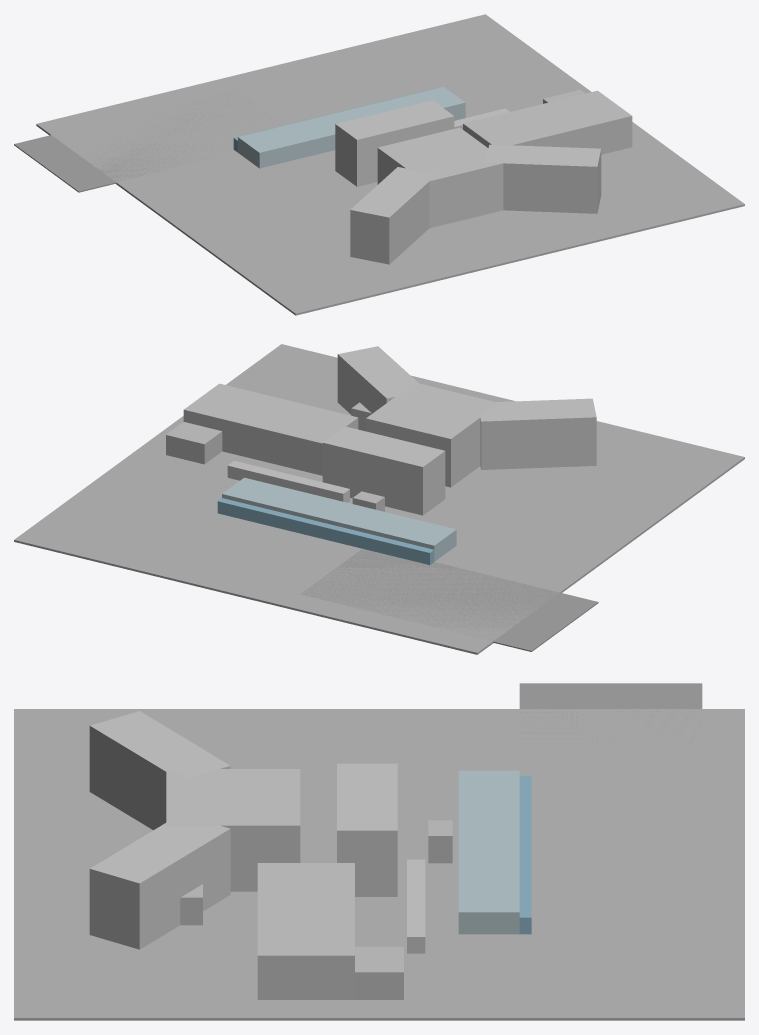
File: college_revesz_long_simplified.glb
The picture shows the model from 3 angles, top to bottom: view 1: azimuth 30°, elevation 25°; view 2: azimuth 150°, elevation 25°; view 3: azimuth 270°, elevation 25°; orthographic projection. The views are drawn at different scales.
Visible parts, largest first — view 1: ground, main_core, east_hall, wing_ne, wing_nw, parking, entrance_block, wing_s; view 2: ground, parking, east_hall, wing_s, wing_nw, main_core, entrance_block, wing_ne, bus_shelters, covered_walkway, annex1; view 3: ground, east_hall, wing_ne, main_core, entrance_block, wing_nw, wing_s, parking, annex1, bus_shelters, covered_walkway, footbridge (+1 smaller).
Boxes of the visible parts, left/top/right/bottom form: ground: left=36, top=14, right=744, bottom=315; main_core: left=377, top=127, right=503, bottom=228; east_hall: left=463, top=90, right=632, bottom=154; wing_ne: left=485, top=144, right=601, bottom=213; wing_nw: left=350, top=167, right=436, bottom=264; parking: left=14, top=89, right=282, bottom=192; entrance_block: left=238, top=87, right=465, bottom=168; wing_s: left=335, top=100, right=454, bottom=186; ground: left=14, top=344, right=744, bottom=654; parking: left=300, top=548, right=598, bottom=651; east_hall: left=183, top=383, right=358, bottom=475; wing_s: left=322, top=426, right=445, bottom=515; wing_nw: left=480, top=398, right=596, bottom=469; main_core: left=366, top=382, right=499, bottom=487; entrance_block: left=222, top=477, right=456, bottom=561; wing_ne: left=337, top=346, right=425, bottom=414; bus_shelters: left=217, top=498, right=434, bottom=564; covered_walkway: left=227, top=460, right=349, bottom=502; annex1: left=166, top=422, right=222, bottom=464; ground: left=14, top=709, right=744, bottom=1020; east_hall: left=257, top=863, right=354, bottom=999; wing_ne: left=89, top=823, right=230, bottom=949; main_core: left=166, top=769, right=300, bottom=891; entrance_block: left=458, top=770, right=519, bottom=934; wing_nw: left=89, top=711, right=230, bottom=830; wing_s: left=337, top=763, right=397, bottom=896; parking: left=519, top=683, right=702, bottom=774; annex1: left=355, top=946, right=403, bottom=999; bus_shelters: left=519, top=776, right=531, bottom=934; covered_walkway: left=407, top=859, right=425, bottom=953; footbridge: left=428, top=820, right=452, bottom=863.
Bounding box in the file's own units: 130 × 12.5 × 120.
